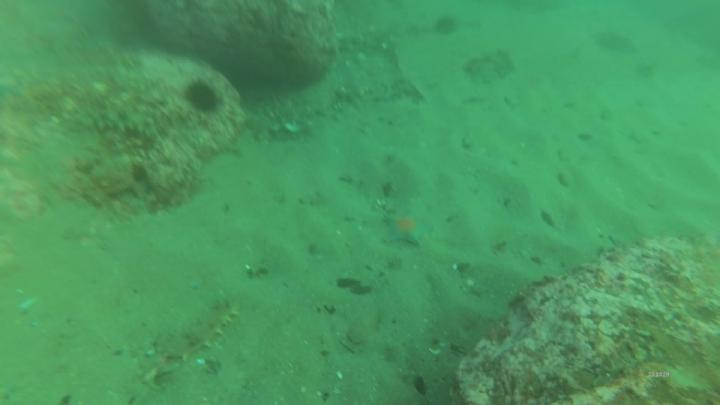echinus: (183, 77, 222, 116)
holothurian: (133, 292, 243, 384)
starfish: (377, 205, 434, 253)
